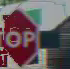Stop: (0, 5, 41, 65)
